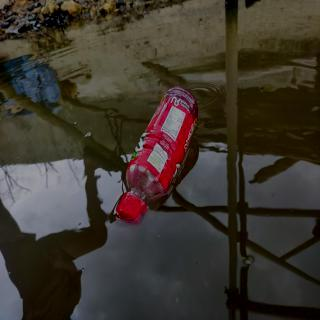bottle: (115, 82, 202, 226)
